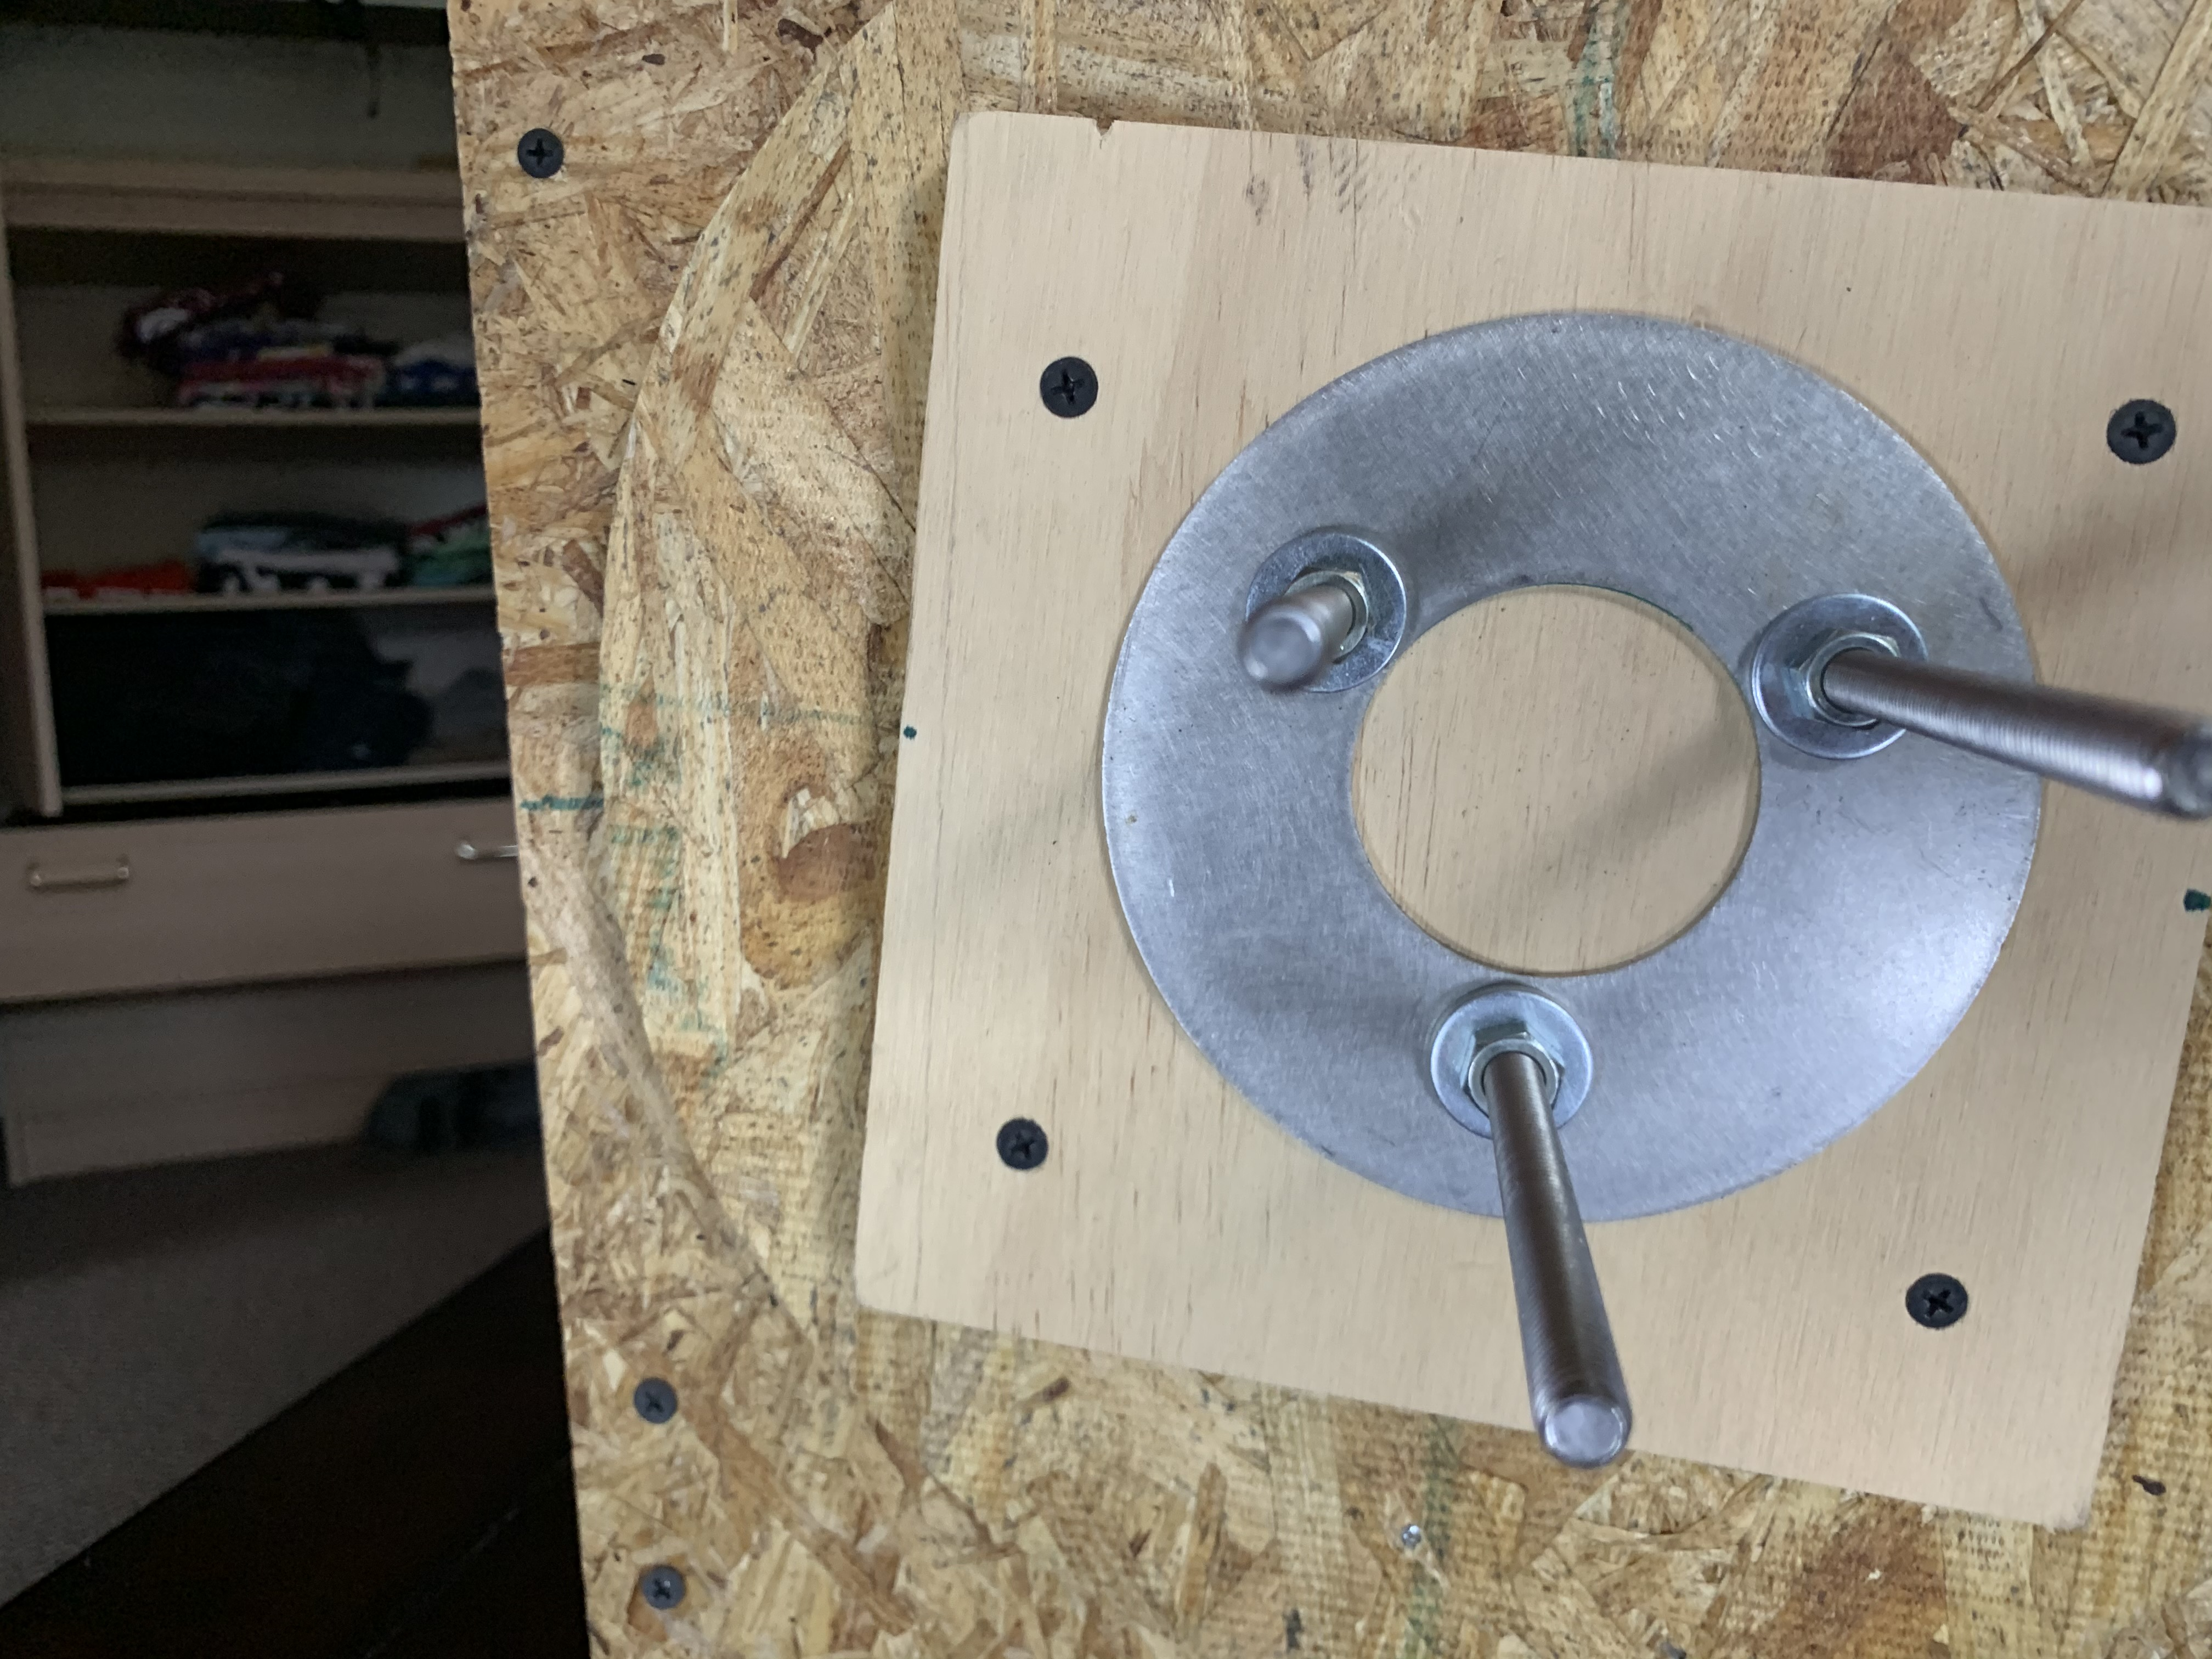bolt: (1745, 589, 1926, 765), (1237, 523, 1411, 699), (1421, 983, 1599, 1136)
